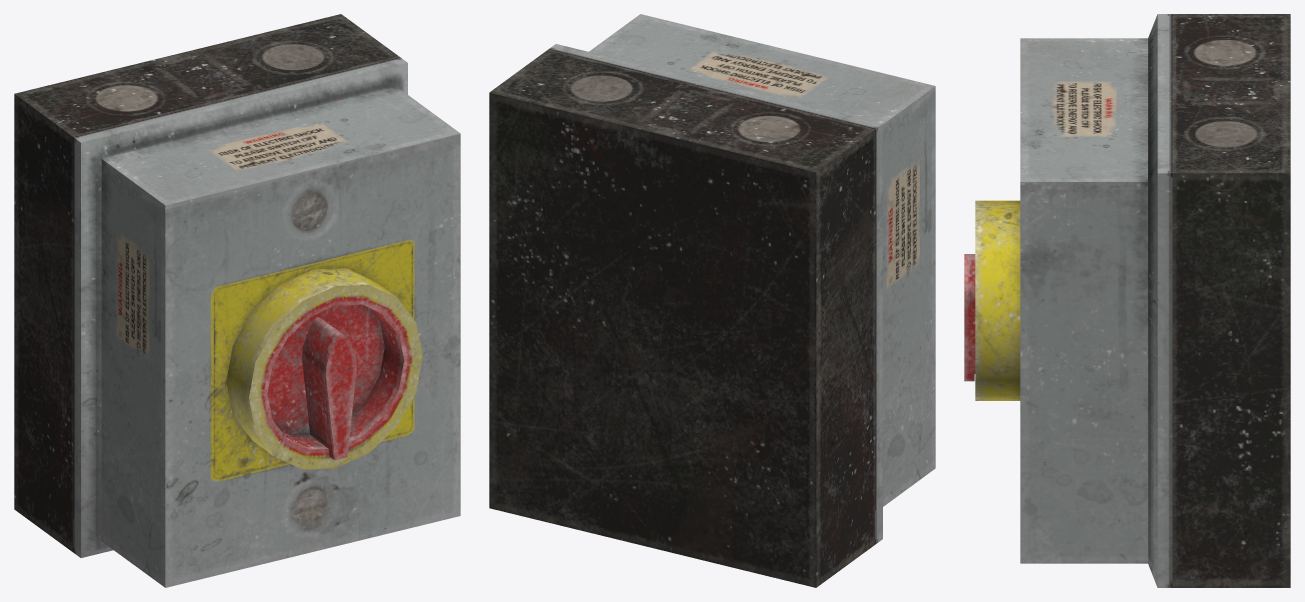
Rendered from ElectricSwitch_01a_snaps011.fbx.
The picture shows the model from 3 angles, left to right: view 1: azimuth 30°, elevation 25°; view 2: azimuth 150°, elevation 25°; view 3: azimuth 270°, elevation 25°; orthographic projection.
Visible parts, largest first — view 1: ElectricSwitch_01a_snaps011_LOD0; view 2: ElectricSwitch_01a_snaps011_LOD0; view 3: ElectricSwitch_01a_snaps011_LOD0.
Part boxes in pixels (box(x1,y1,x2,y2)): ElectricSwitch_01a_snaps011_LOD0: box(14, 14, 460, 587); ElectricSwitch_01a_snaps011_LOD0: box(489, 14, 935, 587); ElectricSwitch_01a_snaps011_LOD0: box(964, 14, 1290, 587).
Size of what is drawn, in the model's own units: 11.18 by 13.58 by 9.69.
